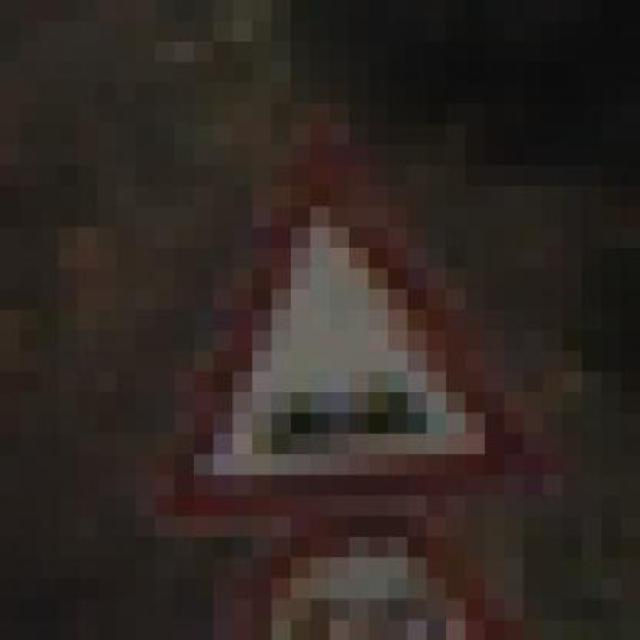Uneven Road: (155, 103, 543, 537)
